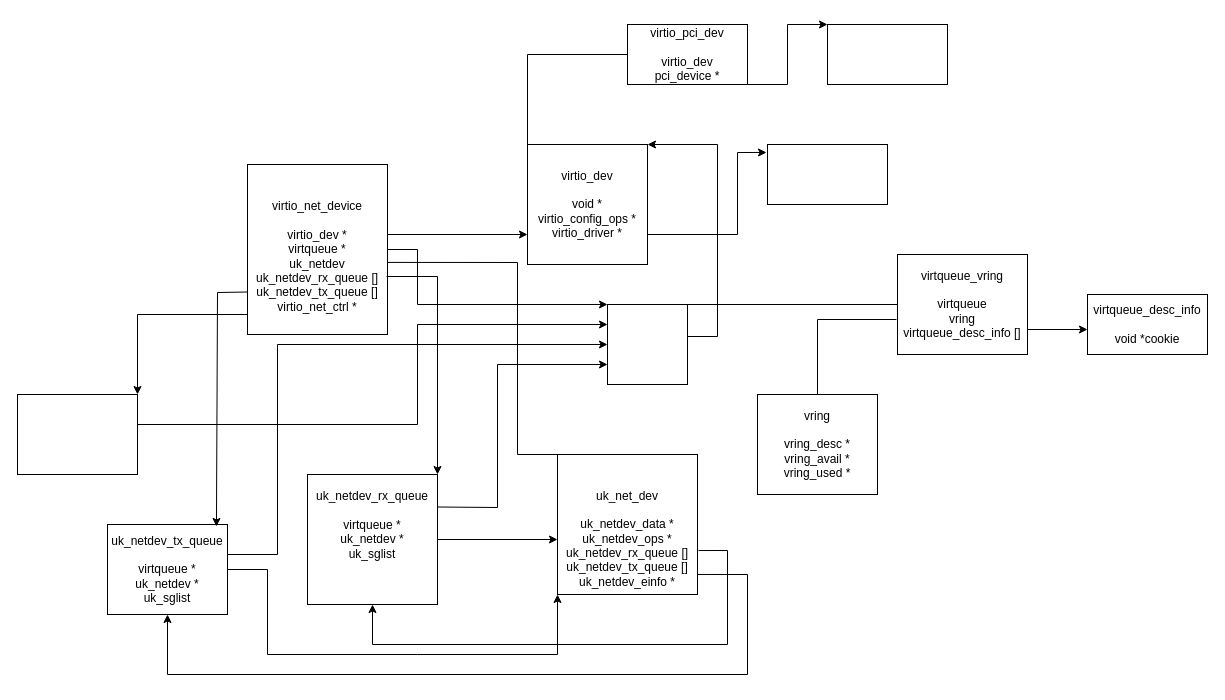
The diagram is 1225 pixels wide and 700 high, and some of its shapes have lost their labels. Here are the shapes that lost their labels. From the top down, the box of each, then its label:
(826, 24, 948, 84): pci_device
(766, 144, 888, 204): virtio_driver virtio_dev_id *
(606, 304, 688, 384): virqueue virtio_dev * void *
(16, 394, 138, 474): virtio_net_ctrl virtqueue * uk_sglist
